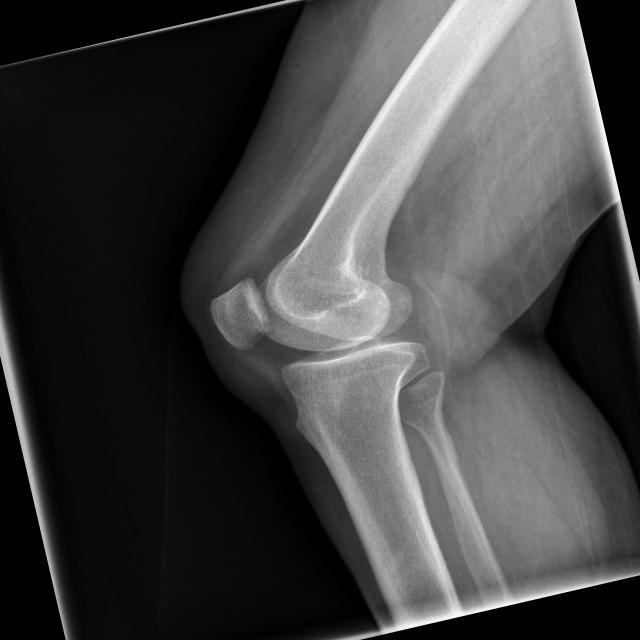Knee: (202, 238, 442, 451)
